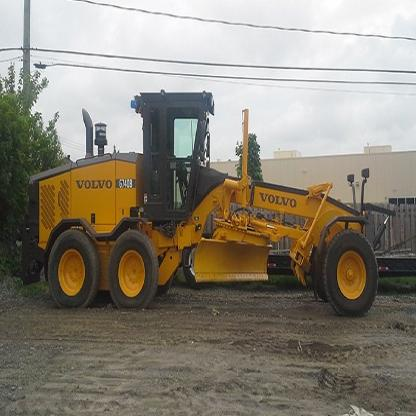bull_dozer/loader/grader: (25, 78, 388, 314)
